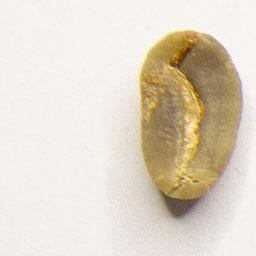longberry: (135, 27, 247, 204)
